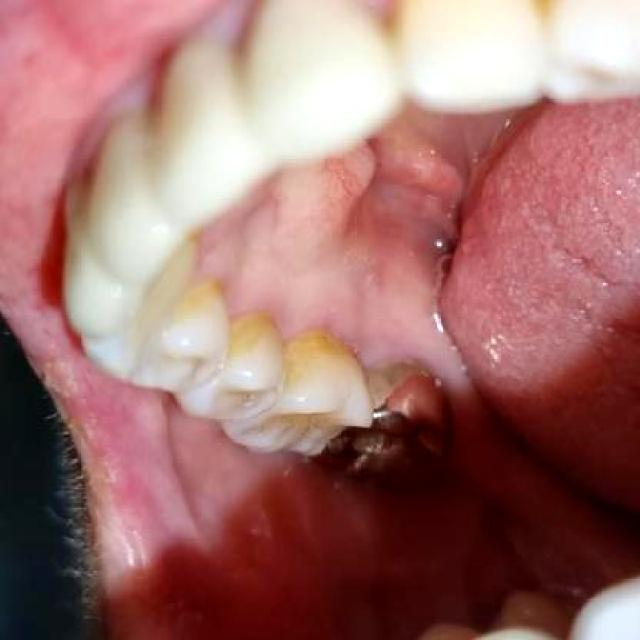Plaque: (216, 277, 457, 390)
